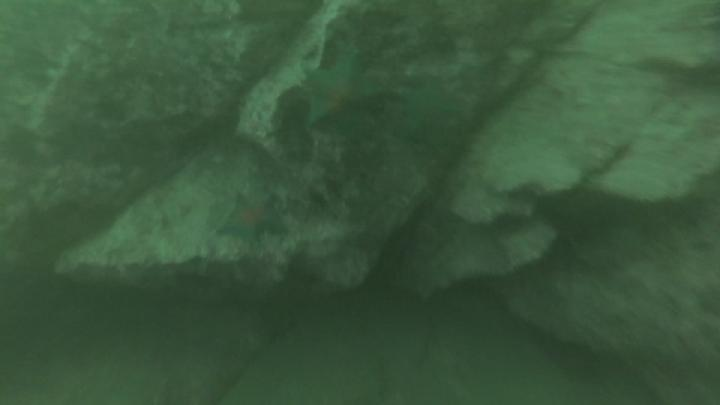starfish: (303, 53, 388, 147), (396, 74, 470, 154), (219, 191, 294, 253)
